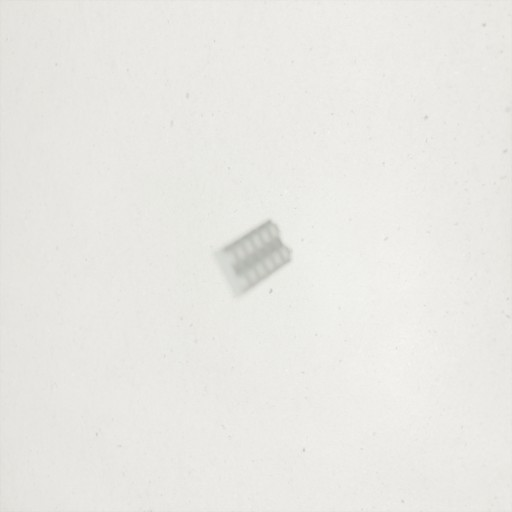lego: (211, 217, 293, 300)
